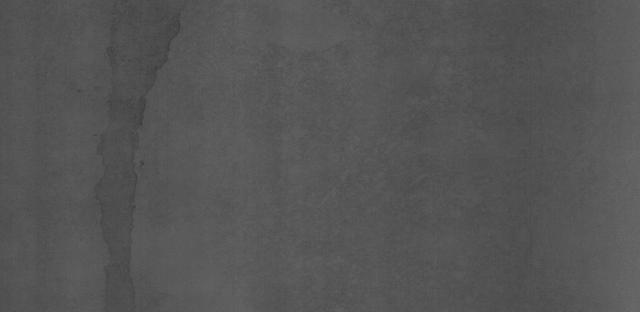water_spot: (84, 8, 182, 301)
